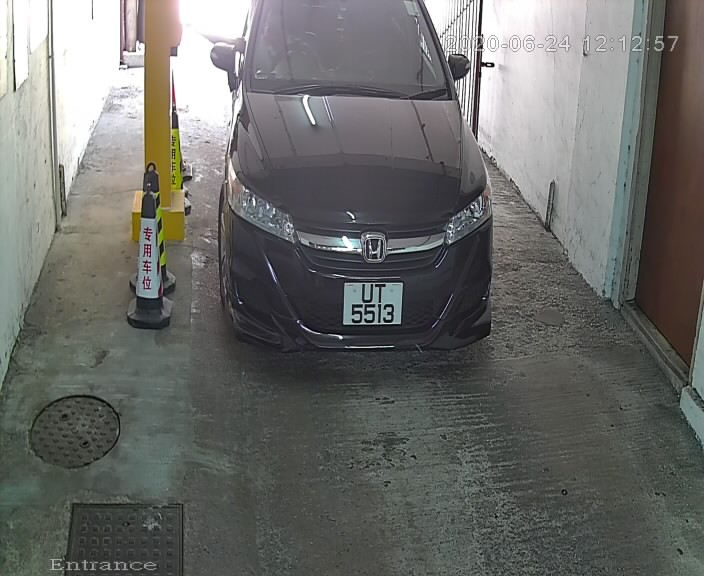Car: (198, 1, 535, 387)
License Plate: (337, 277, 410, 334)
